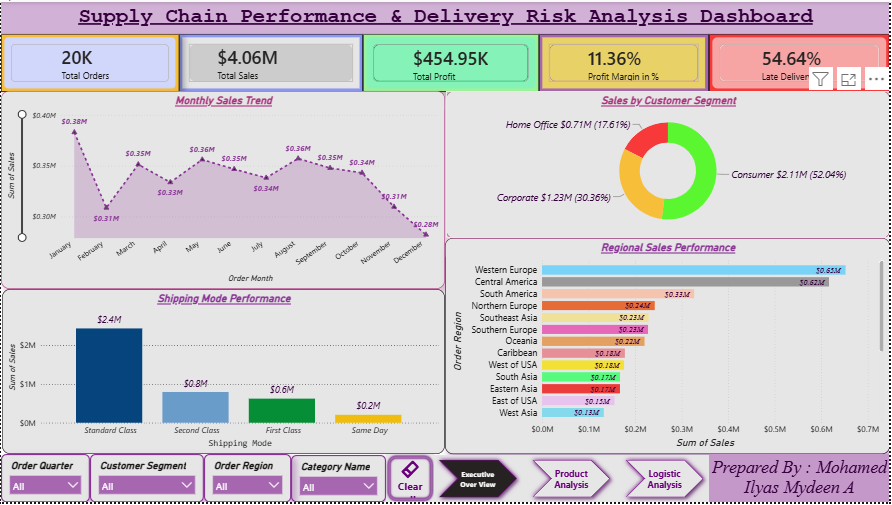

The page's visual inventory and layout, read from the dashboard file:
{"tool":"powerbi","page":{"name":"Dash Board","canvas":[1600,900],"ordinal":0},"visuals":[{"type":"cardVisual","title":"Card_Total Sales","fields":{"Data":["Supply Chain.Total Sales"]},"box":[320.8,57.4,331.5,104.1],"z":0},{"type":"cardVisual","title":"Card_Total Profit","fields":{"Data":["Supply Chain.Total Profit"]},"box":[652.3,57.4,316.6,104.1],"z":1000},{"type":"cardVisual","title":"Card_Total Orders","fields":{"Data":["Supply Chain.Total Orders"]},"box":[0,57.4,320.8,104.1],"z":2000},{"type":"cardVisual","title":"Card_Profit Margin","fields":{"Data":["Supply Chain.Profit Margin"]},"box":[968.9,57.4,306,104.1],"z":3000},{"type":"cardVisual","title":"Card_Late Delivery %","fields":{"Data":["Supply Chain.Late Delivery %"]},"box":[1274.9,57.4,325.1,104.1],"z":4000},{"type":"lineChart","title":"Monthly Sales Trend","fields":{"Y":["Sum(Supply Chain.Sales)"],"Category":["Supply Chain.Order Month"]},"box":[0,160.9,799.1,355.8],"z":5000},{"type":"clusteredBarChart","title":"Regional Sales Performance","fields":{"Category":["Supply Chain.Order Region"],"Y":["Sum(Supply Chain.Sales)"]},"box":[798.9,425,801.1,388.8],"z":6000},{"type":"donutChart","title":"Sales by Customer Segment","fields":{"Category":["Supply Chain.Customer Segment"],"Y":["Sum(Supply Chain.Sales)"]},"box":[801.1,159.4,798.9,265.6],"z":7000},{"type":"clusteredColumnChart","title":"Shipping Mode Performance","fields":{"Category":["Supply Chain.Shipping Mode"],"Y":["Sum(Supply Chain.Sales)"]},"box":[1.8,516.6,797.3,296.8],"z":9000},{"type":"slicer","title":"Slicer_Order Quarter","fields":{"Values":["Supply Chain.Order Quarter"]},"box":[0,813.3,160.2,87.2],"z":10000},{"type":"slicer","title":"Slicer_Customer Segment","fields":{"Values":["Supply Chain.Customer Segment"]},"box":[160.2,813.3,204.7,87.2],"z":11000},{"type":"slicer","title":"Slicer_Category Name","fields":{"Values":["Supply Chain.Category Name"]},"box":[521.5,815.1,170.9,85.4],"z":12000},{"type":"slicer","title":"Slicer_Order Region","fields":{"Values":["Supply Chain.Order Region"]},"box":[364.8,813.3,156.6,87.2],"z":13000},{"type":"textbox","title":"Title","box":[0,0,1600,58.3],"z":15000},{"type":"textbox","box":[1274.3,813.3,325.7,89],"z":18000},{"type":"actionButton","box":[692.3,813.3,87.2,87.2],"z":19000},{"type":"bookmarkNavigator","box":[779.5,815.1,494.8,85.4],"z":20000}]}

Visuals, with their boxes in screenshot pixels (x1, y1, x2, y2), scaled from the page's 1600x900 canvas onto the 892x505 screenshot:
"Card_Total Sales" cardVisual: Rect(179, 32, 364, 91)
"Card_Total Profit" cardVisual: Rect(364, 32, 540, 91)
"Card_Total Orders" cardVisual: Rect(0, 32, 179, 91)
"Card_Profit Margin" cardVisual: Rect(540, 32, 711, 91)
"Card_Late Delivery %" cardVisual: Rect(711, 32, 891, 91)
"Monthly Sales Trend" lineChart: Rect(0, 90, 445, 290)
"Regional Sales Performance" clusteredBarChart: Rect(445, 238, 891, 457)
"Sales by Customer Segment" donutChart: Rect(447, 89, 891, 238)
"Shipping Mode Performance" clusteredColumnChart: Rect(1, 290, 445, 456)
"Slicer_Order Quarter" slicer: Rect(0, 456, 89, 504)
"Slicer_Customer Segment" slicer: Rect(89, 456, 203, 504)
"Slicer_Category Name" slicer: Rect(291, 457, 386, 504)
"Slicer_Order Region" slicer: Rect(203, 456, 291, 504)
"Title" textbox: Rect(0, 0, 891, 33)
textbox: Rect(710, 456, 891, 504)
actionButton: Rect(386, 456, 435, 504)
bookmarkNavigator: Rect(435, 457, 710, 504)
